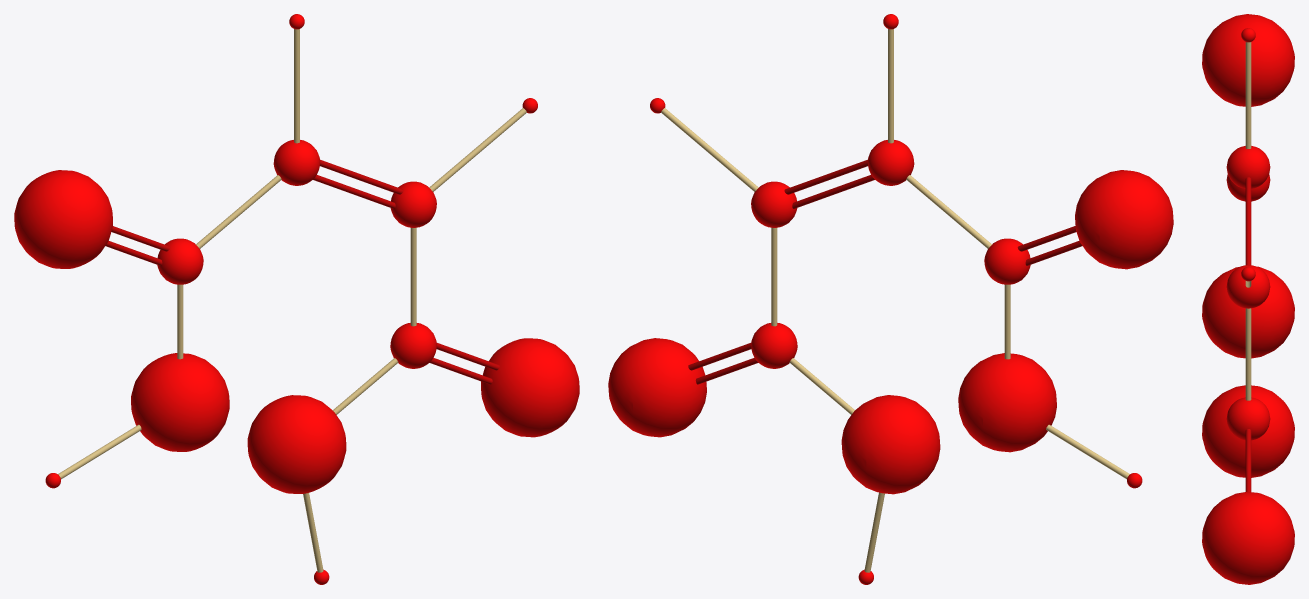
Rendered from Plantpigments.fbx.
3 renders of one model, left to right at view 1: azimuth 30°, elevation 25°; view 2: azimuth 150°, elevation 25°; view 3: azimuth 270°, elevation 25°, orthographic. The views are drawn at different scales.
Visible parts, largest first — view 1: _1138, _1132, _1136, _1127, _1130, _1131; view 2: _1138, _1132, _1136, _1127, _1130, _1131; view 3: _1138, _1128, _1135, _1132, _1136.
Boxes of the visible parts, x1,y1,x2,y2 form: _1138: [14, 14, 579, 584]; _1132: [313, 159, 403, 208]; _1136: [429, 343, 499, 384]; _1127: [429, 108, 526, 191]; _1130: [105, 226, 170, 265]; _1131: [196, 175, 281, 248]; _1138: [608, 14, 1173, 584]; _1132: [784, 159, 874, 208]; _1136: [688, 343, 758, 384]; _1127: [661, 108, 758, 191]; _1130: [1017, 226, 1082, 265]; _1131: [906, 175, 991, 248]; _1138: [1202, 14, 1294, 584]; _1128: [1245, 42, 1251, 148]; _1135: [1245, 308, 1251, 400]; _1132: [1245, 177, 1251, 264]; _1136: [1245, 429, 1251, 491].
Size of the model in its own units: 2.11 by 2.1 by 0.3274.
